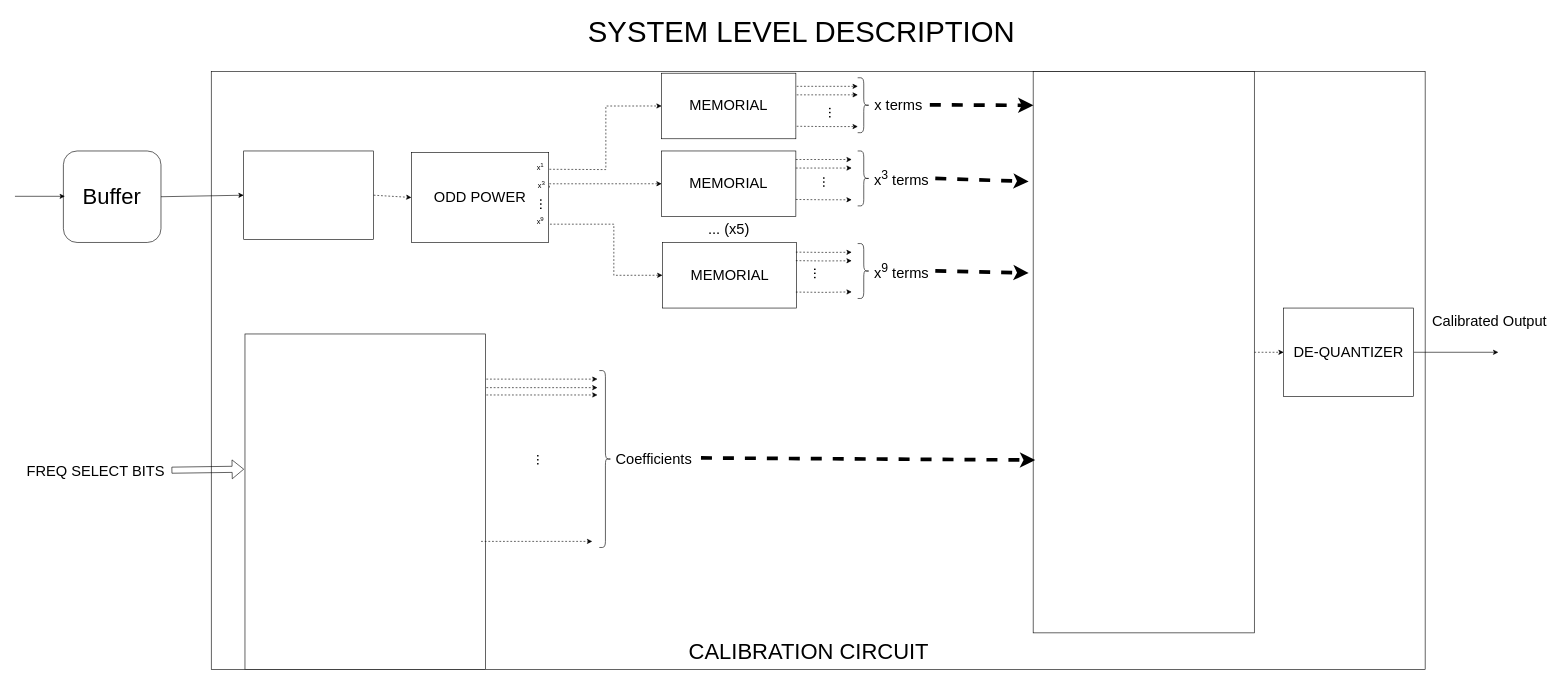
Image size: 1564x680. Some labels were removed from this diagram. The shapes that lost their labels are listed below. From the top down, each one's centre as x and y in pixels, then its label:
At [308,194]: "QUANTIZER".
At [1143,352]: "CIRCUIT FOR SUMMATION".
At [365,501]: "LUT".
